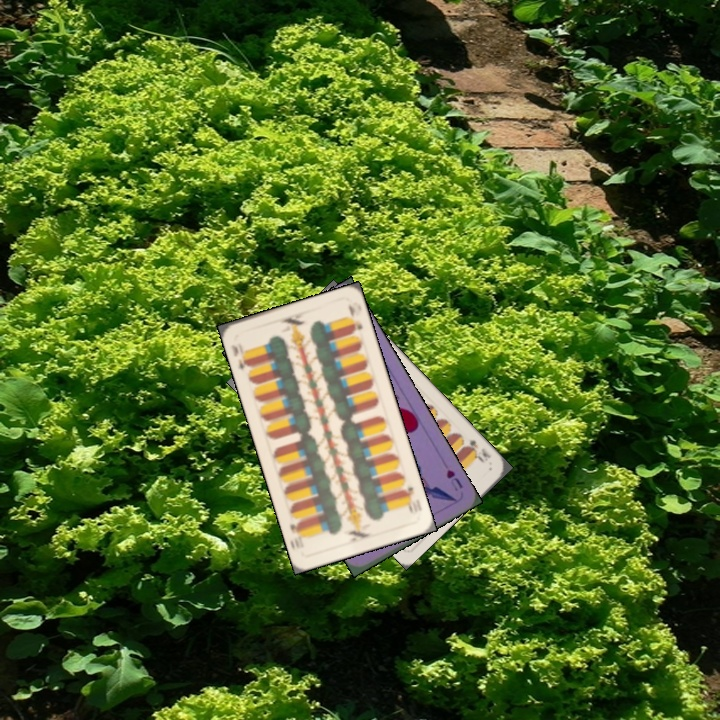E10: (459, 435, 494, 465), (227, 341, 254, 373), (398, 483, 424, 515)
HU: (442, 465, 466, 494)
